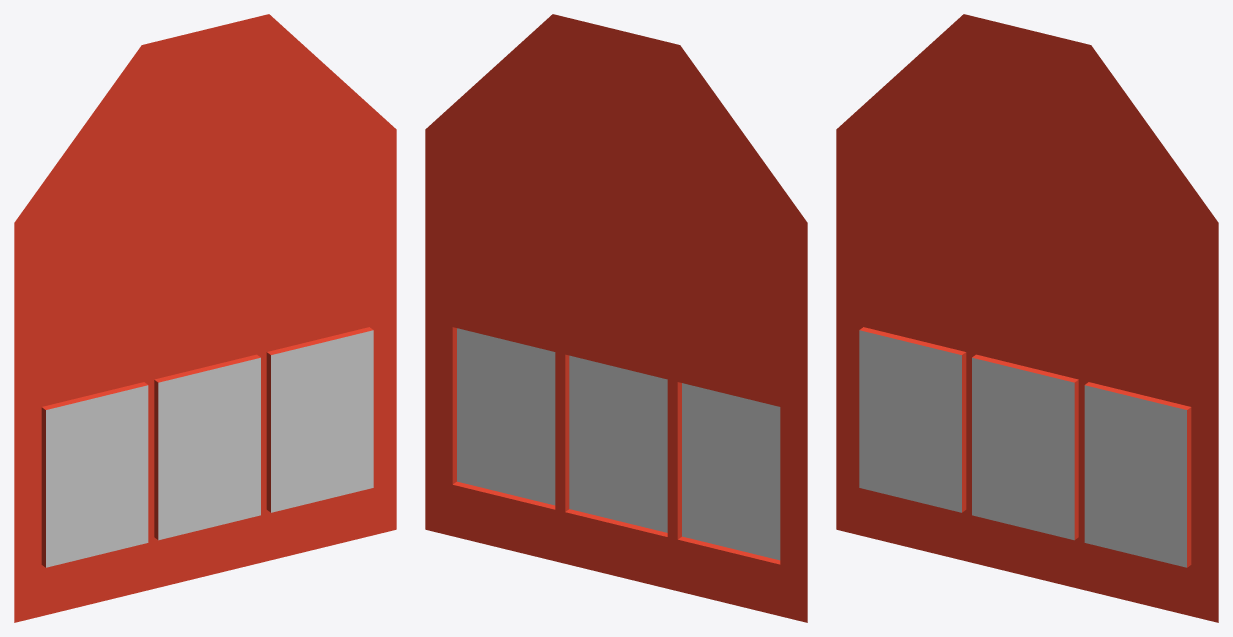
The model's file is windowWallTall.fbx.
3 views of the same model, side by side, from view 1: azimuth 30°, elevation 25°; view 2: azimuth 150°, elevation 25°; view 3: azimuth 330°, elevation 25° (orthographic).
Visible parts, largest first — view 1: WindowWallTall; view 2: WindowWallTall; view 3: WindowWallTall.
Part boxes in pixels (x1,y1,x2,y2): WindowWallTall: [14, 14, 396, 622]; WindowWallTall: [425, 14, 807, 622]; WindowWallTall: [836, 14, 1218, 622].
Bounding box in the file's own units: 200 × 273 × 3.88.
